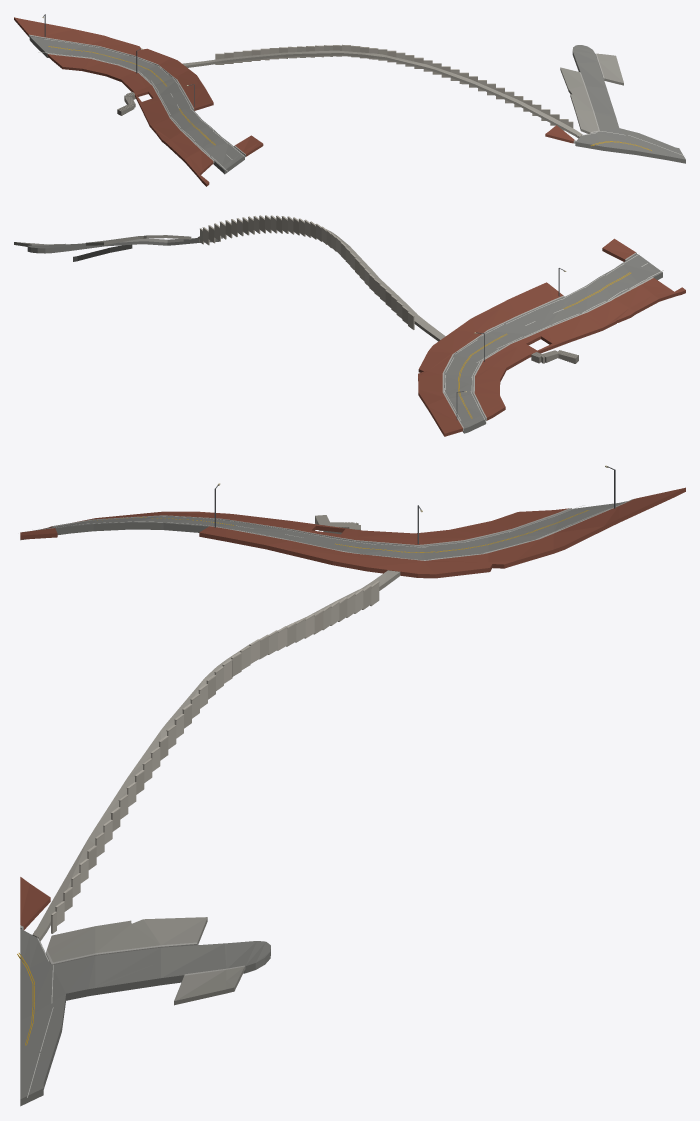
The picture shows the model from 3 angles, top to bottom: view 1: azimuth 30°, elevation 25°; view 2: azimuth 150°, elevation 25°; view 3: azimuth 270°, elevation 25°; orthographic projection. The views are drawn at different scales.
Size of the model in its own units: 149 by 42.12 by 103.
